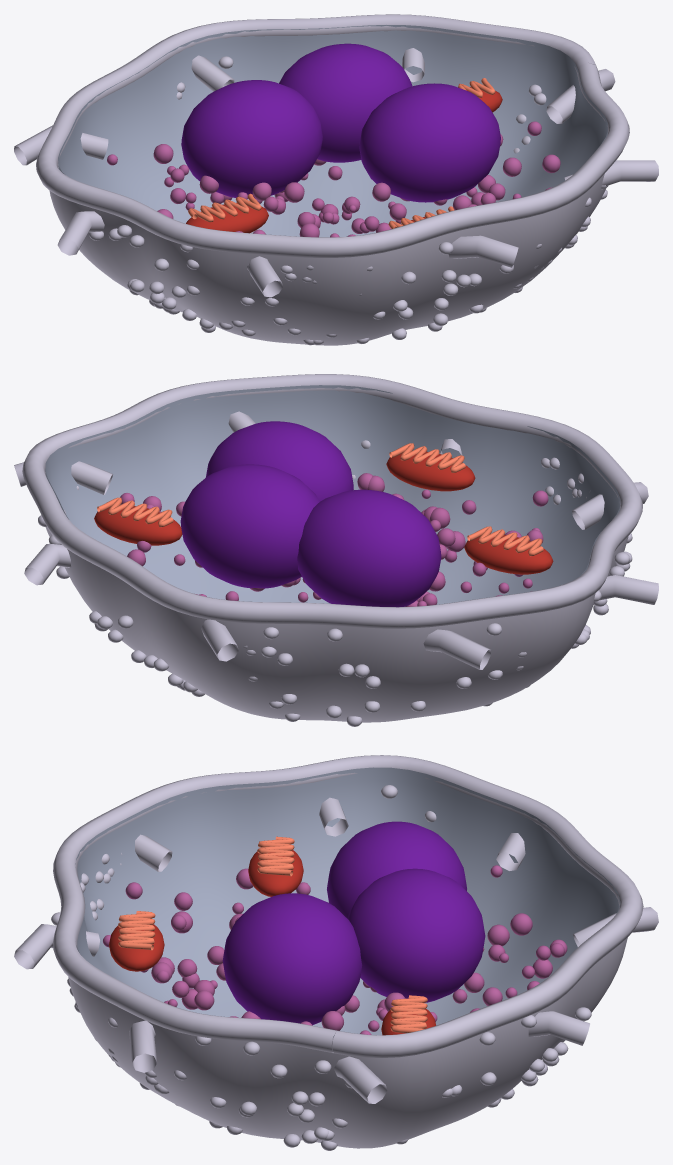
The model's file is white-blood-cell.glb.
The picture shows the model from 3 angles, top to bottom: view 1: azimuth 30°, elevation 25°; view 2: azimuth 150°, elevation 25°; view 3: azimuth 270°, elevation 25°; orthographic projection. The views are drawn at different scales.
Visible parts, largest first — view 1: membrane, cytoplasm, nucleus, granules, mitochondria; view 2: membrane, cytoplasm, nucleus, mitochondria, granules; view 3: membrane, cytoplasm, nucleus, granules, mitochondria.
Boxes of the visible parts, left/top/right/bottom form: membrane: left=14, top=14, right=658, bottom=345; cytoplasm: left=58, top=25, right=607, bottom=237; nucleus: left=181, top=43, right=500, bottom=202; granules: left=107, top=121, right=560, bottom=237; mitochondria: left=186, top=78, right=502, bottom=233; membrane: left=14, top=374, right=658, bottom=726; cytoplasm: left=45, top=385, right=620, bottom=604; nucleus: left=180, top=421, right=441, bottom=607; mitochondria: left=94, top=443, right=553, bottom=574; granules: left=120, top=473, right=548, bottom=606; membrane: left=14, top=755, right=658, bottom=1150; cytoplasm: left=75, top=767, right=620, bottom=1037; nucleus: left=222, top=821, right=485, bottom=1025; granules: left=103, top=865, right=567, bottom=1034; mitochondria: left=109, top=836, right=435, bottom=1035.
Bounding box in the file's own units: 6.18 × 2.27 × 5.33.
